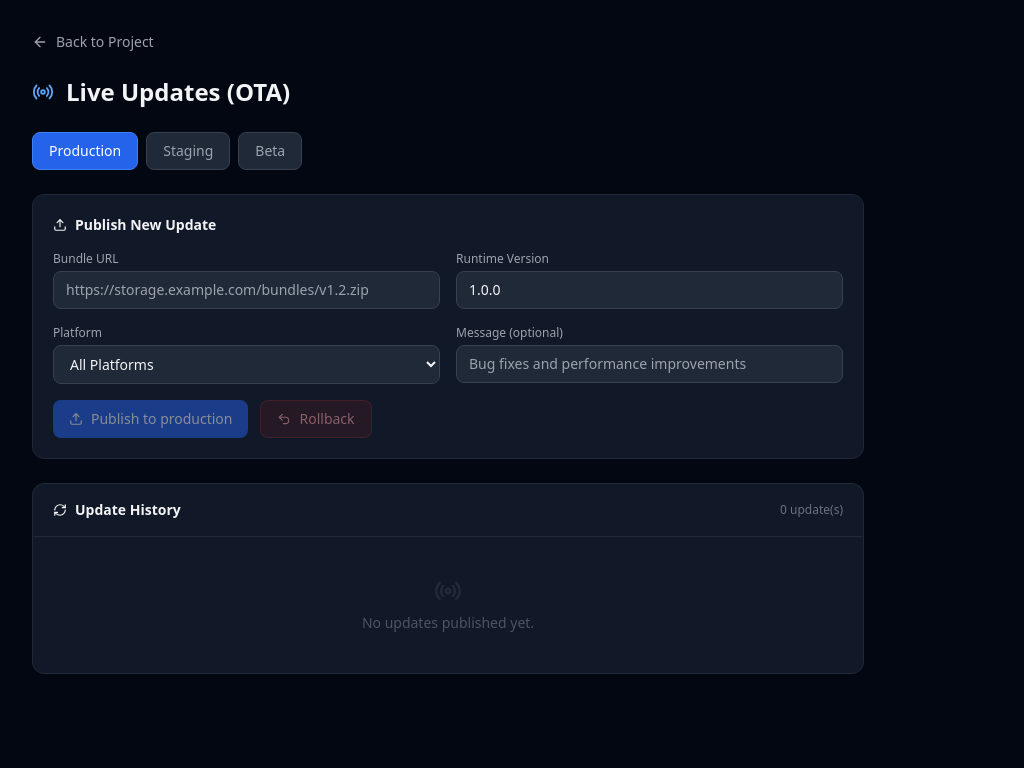
OTAPage › switches channel on button click
Click the button "staging".
click(188, 151)  # box x1=146 y1=132 x2=230 y2=170
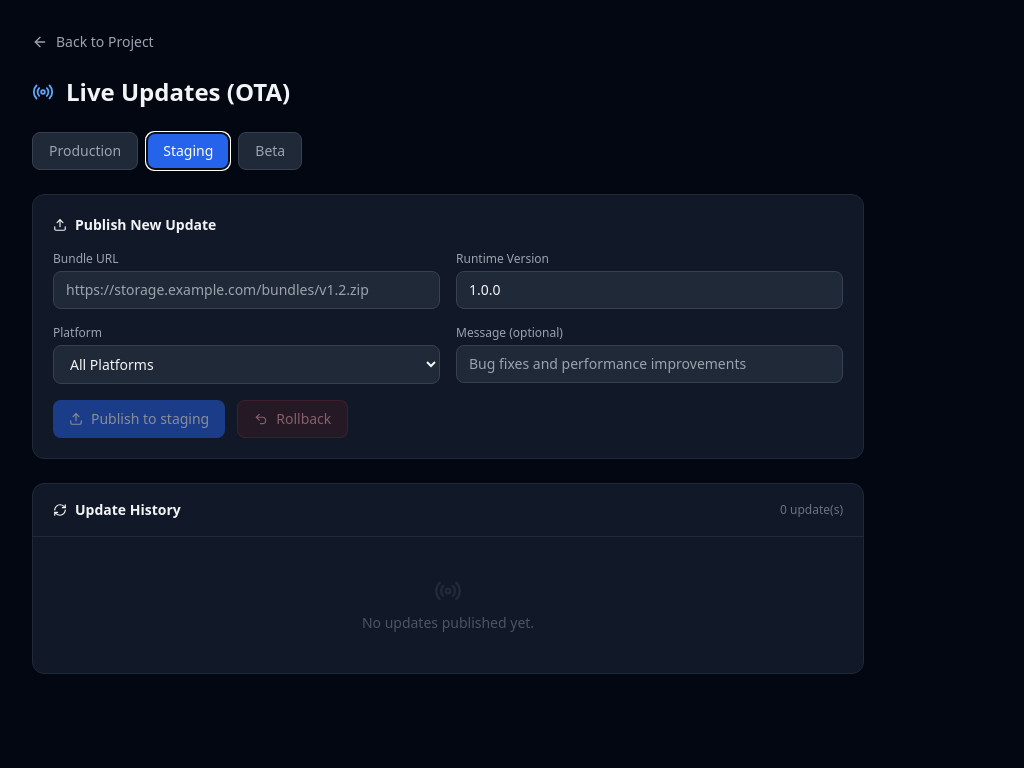
Check: the button "Publish to staging" is shown, box x1=53 y1=400 x2=225 y2=438
